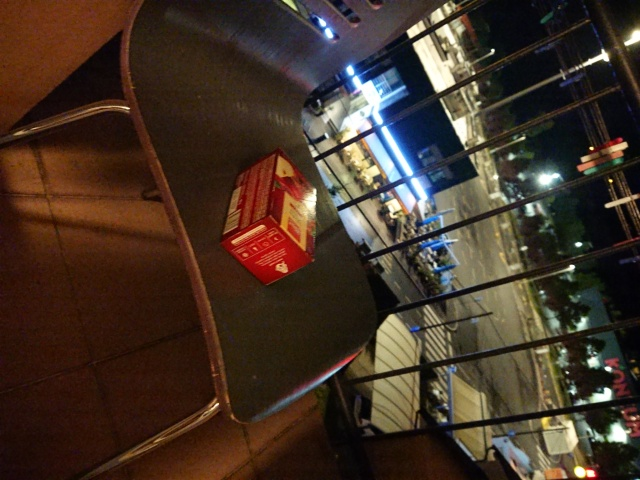Franck Apple Cinnamon Tea 60g: (215, 145, 321, 289)
